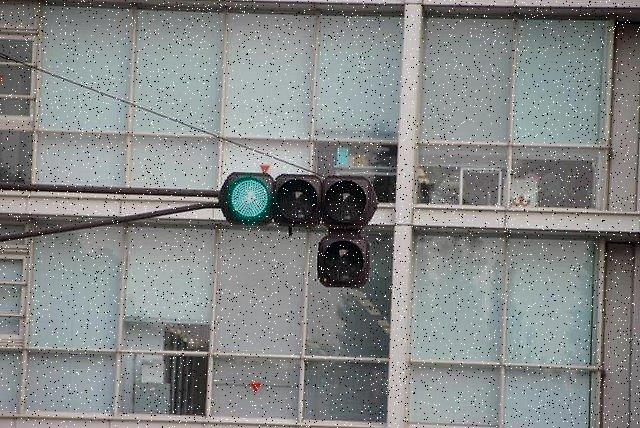cars: (224, 173, 375, 225)
